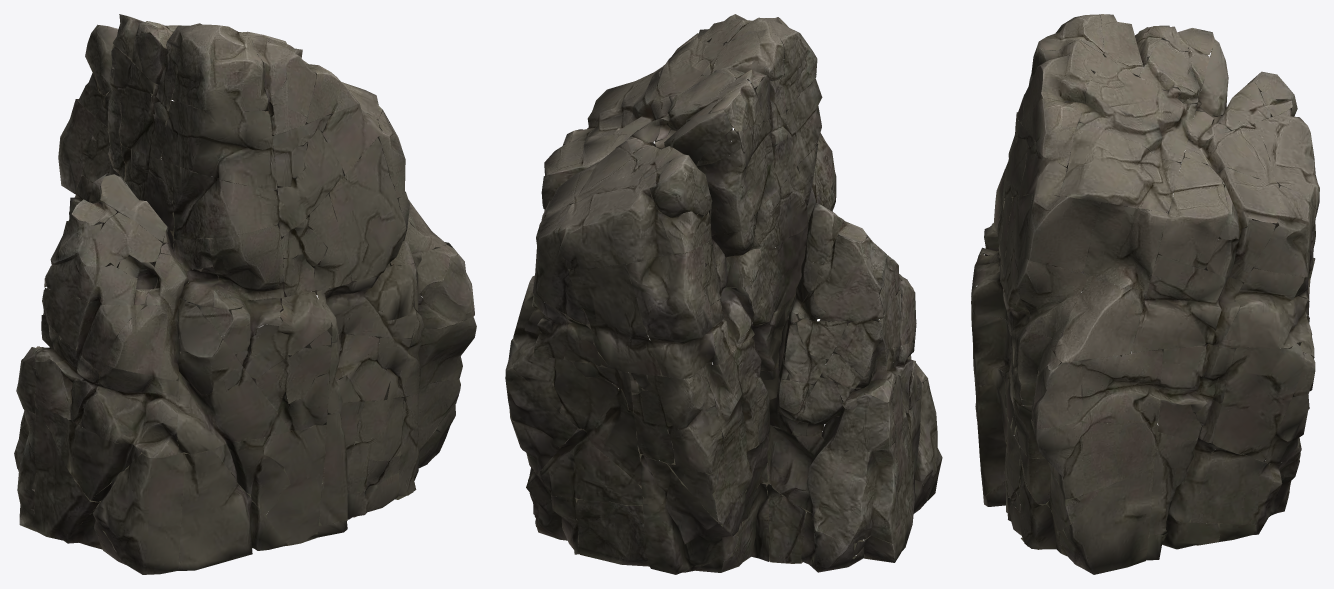
File: boulder-cracked.glb
3 views of the same model, side by side, from view 1: azimuth 30°, elevation 25°; view 2: azimuth 150°, elevation 25°; view 3: azimuth 270°, elevation 25° (orthographic). The views are drawn at different scales.
Parts seen in each view (by area): view 1: mesh_node; view 2: mesh_node; view 3: mesh_node.
Boxes of the visible parts, x1=… form: mesh_node: x1=14, y1=14, x2=476, y2=574; mesh_node: x1=505, y1=14, x2=942, y2=574; mesh_node: x1=971, y1=14, x2=1319, y2=574.
Bounding box in the file's own units: 2.57 × 3 × 2.08.
Materials: 1 (1 with a texture image).
